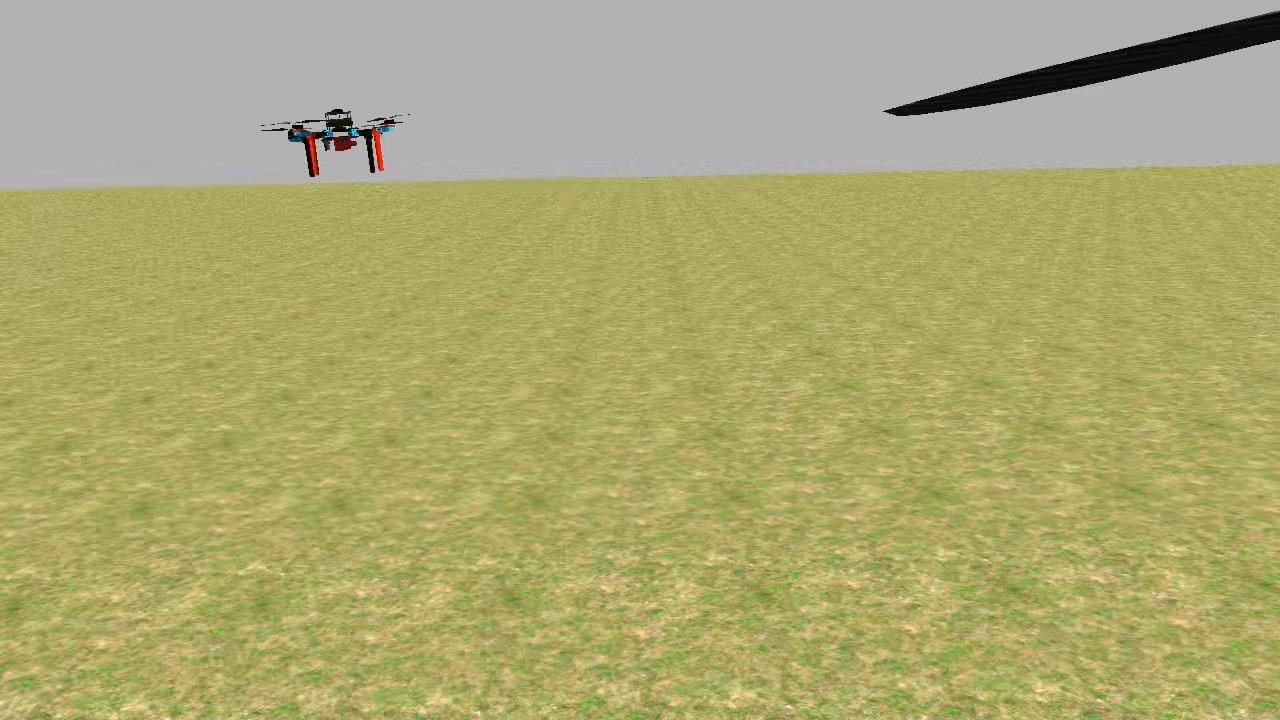UAV: (278, 94, 408, 195)
